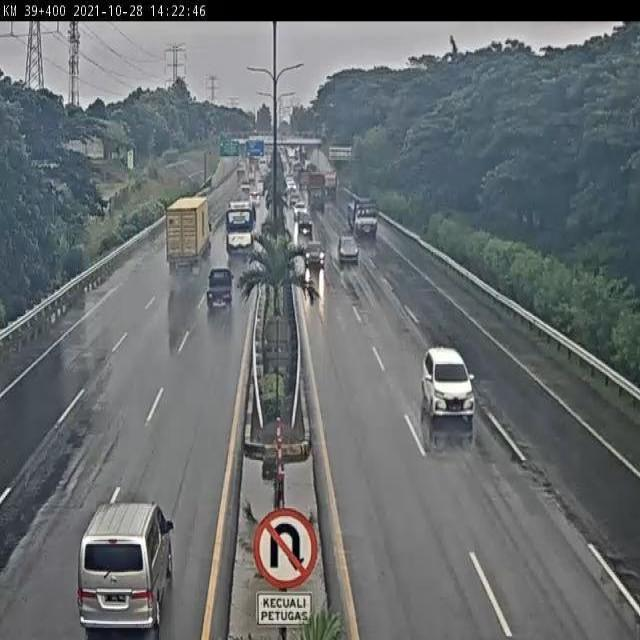Bus: (226, 196, 254, 254)
Car: (79, 494, 173, 640), (415, 337, 484, 432), (208, 268, 235, 310), (300, 242, 330, 272), (339, 238, 361, 264)
Truck: (166, 189, 211, 272)
